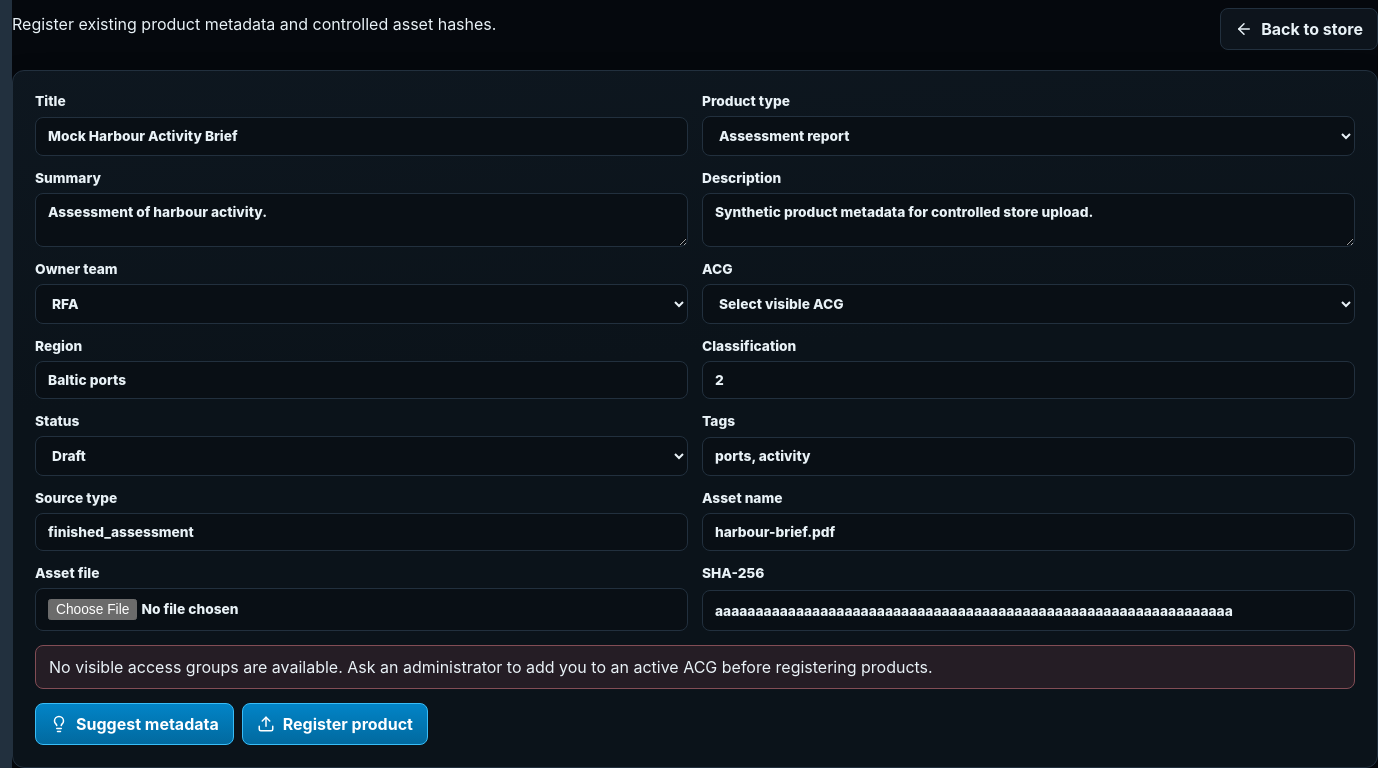
it: shows the API validation message when metadata suggestions fail
The width and height of the screenshot is (1378, 768).
(page scrolled)
Expected: the dropdown labelled "ACG" is shown, x1=702 y1=284 x2=1355 y2=324
Click the button "Suggest metadata": coordinates (134, 724) x1=35 y1=703 x2=234 y2=745
(page scrolled)
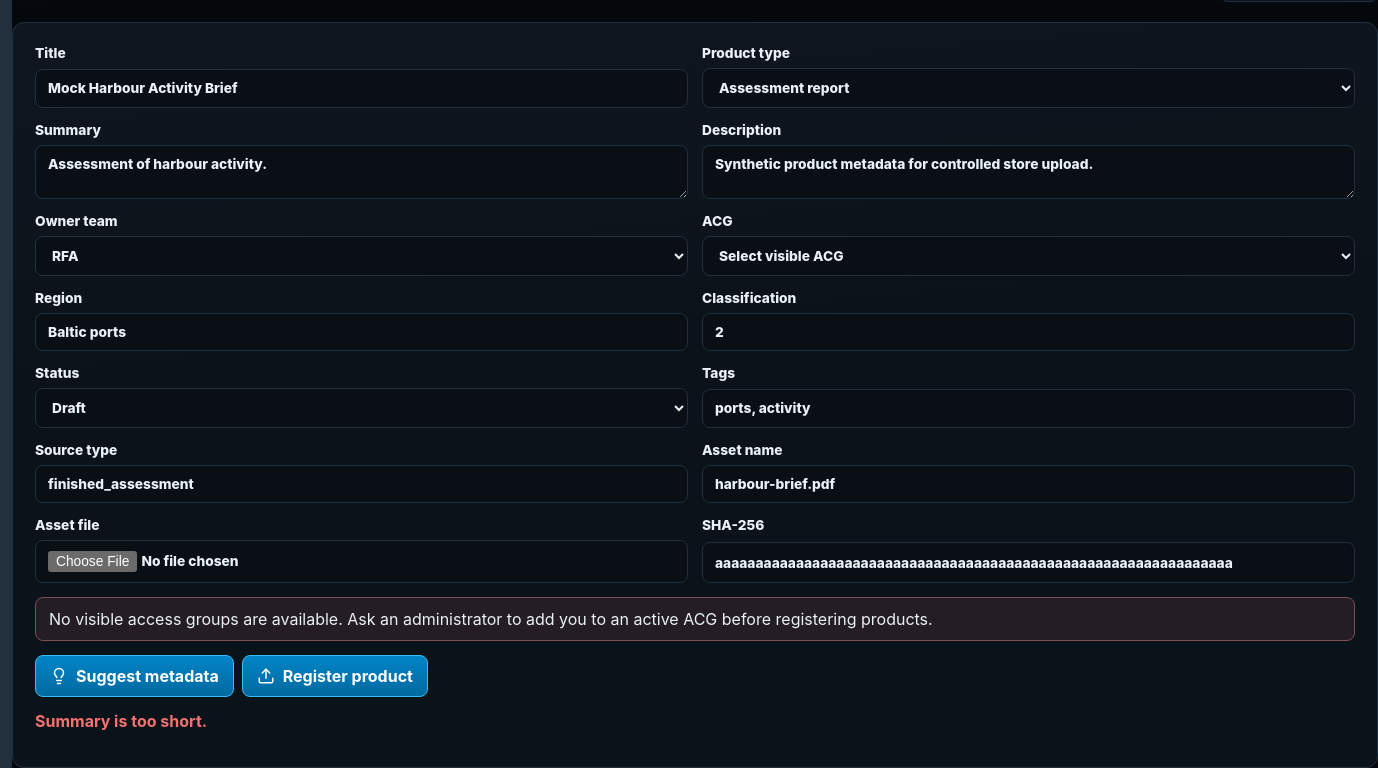
Expected: the text "Summary is too short." is shown, x1=35 y1=711 x2=207 y2=731
